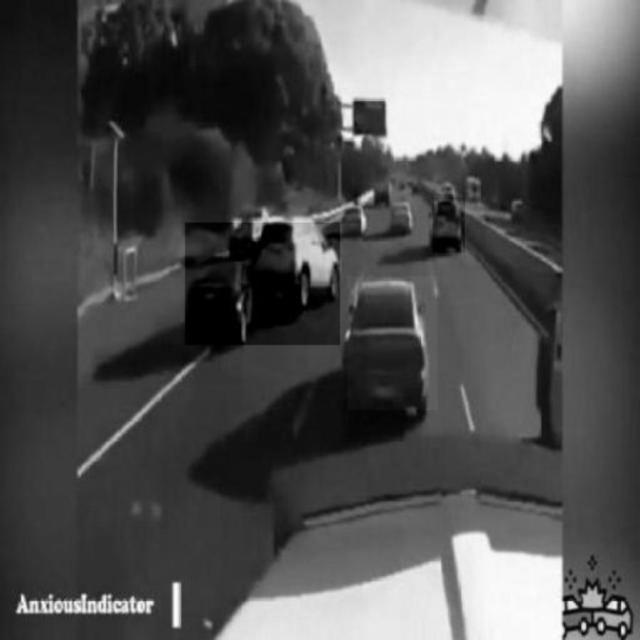accident: (186, 222, 340, 346)
vehicle: (348, 277, 438, 411), (432, 197, 466, 253)
